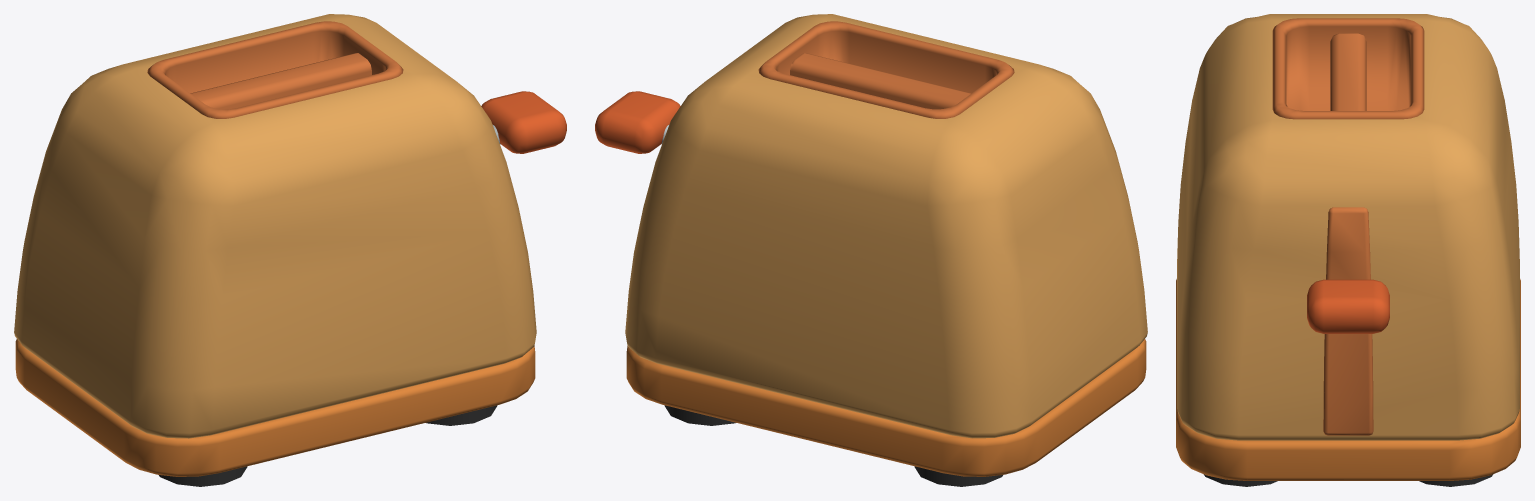
File: ToastMachine.fbx
3 renders of one model, left to right at view 1: azimuth 30°, elevation 25°; view 2: azimuth 150°, elevation 25°; view 3: azimuth 270°, elevation 25°, orthographic.
Visible parts, largest first — view 1: Cube.013, Cube.012, Cube.015, Cylinder.006; view 2: Cube.013, Cube.012, Cube.015, Cylinder.006; view 3: Cube.013, Cube.012, Cube.015, Cylinder.006.
Part boxes in pixels (box(x1,y1,x2,y2)): Cube.013: box(14, 14, 536, 438); Cube.012: box(15, 339, 535, 476); Cube.015: box(481, 91, 566, 153); Cylinder.006: box(159, 405, 497, 486); Cube.013: box(625, 14, 1147, 438); Cube.012: box(626, 339, 1146, 476); Cube.015: box(595, 91, 680, 153); Cylinder.006: box(664, 405, 1002, 486); Cube.013: box(1177, 14, 1519, 440); Cube.012: box(1176, 279, 1520, 480); Cube.015: box(1307, 279, 1389, 333); Cylinder.006: box(1204, 474, 1492, 486).
Size of the model in its own units: 3.72 by 2.47 by 2.28.
